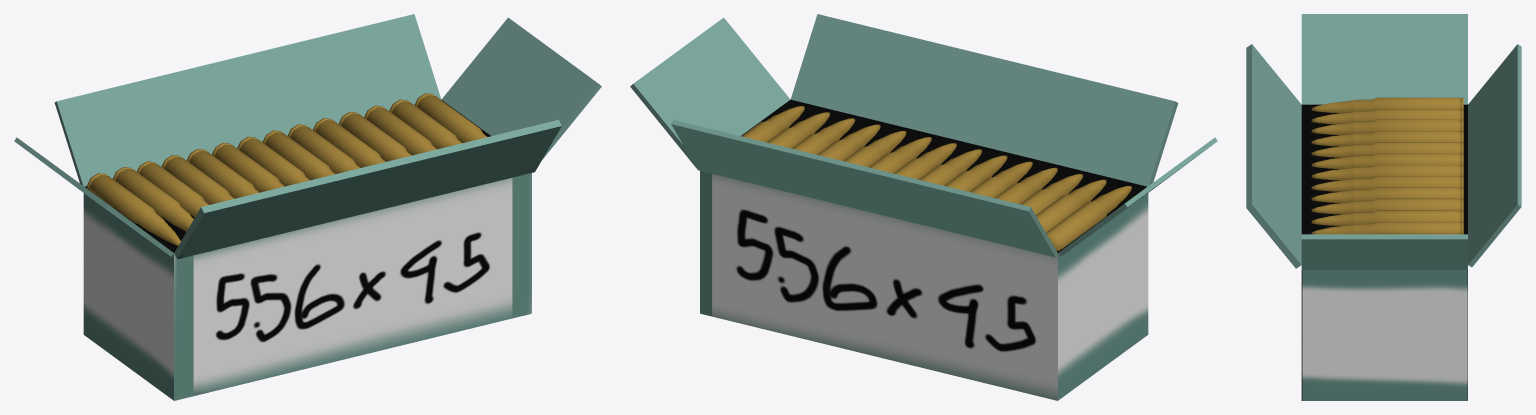
The model's file is tps_ammo_rifle.fbx.
3 renders of one model, left to right at view 1: azimuth 30°, elevation 25°; view 2: azimuth 150°, elevation 25°; view 3: azimuth 270°, elevation 25°, orthographic. The views are drawn at different scales.
Parts seen in each view (by area): view 1: Round_5.56_Full; view 2: Round_5.56_Full; view 3: Round_5.56_Full.
Part boxes in pixels (<box>): Round_5.56_Full: <box>14,14,601,400</box>; Round_5.56_Full: <box>630,14,1217,400</box>; Round_5.56_Full: <box>1246,14,1521,400</box>.
Bounding box in the file's own units: 0.7049 × 0.2894 × 0.3671.
